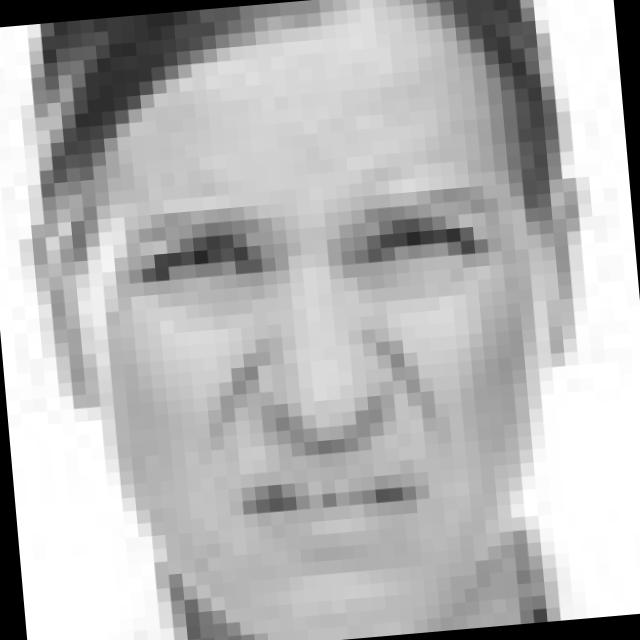disgust: (120, 175, 539, 576)
